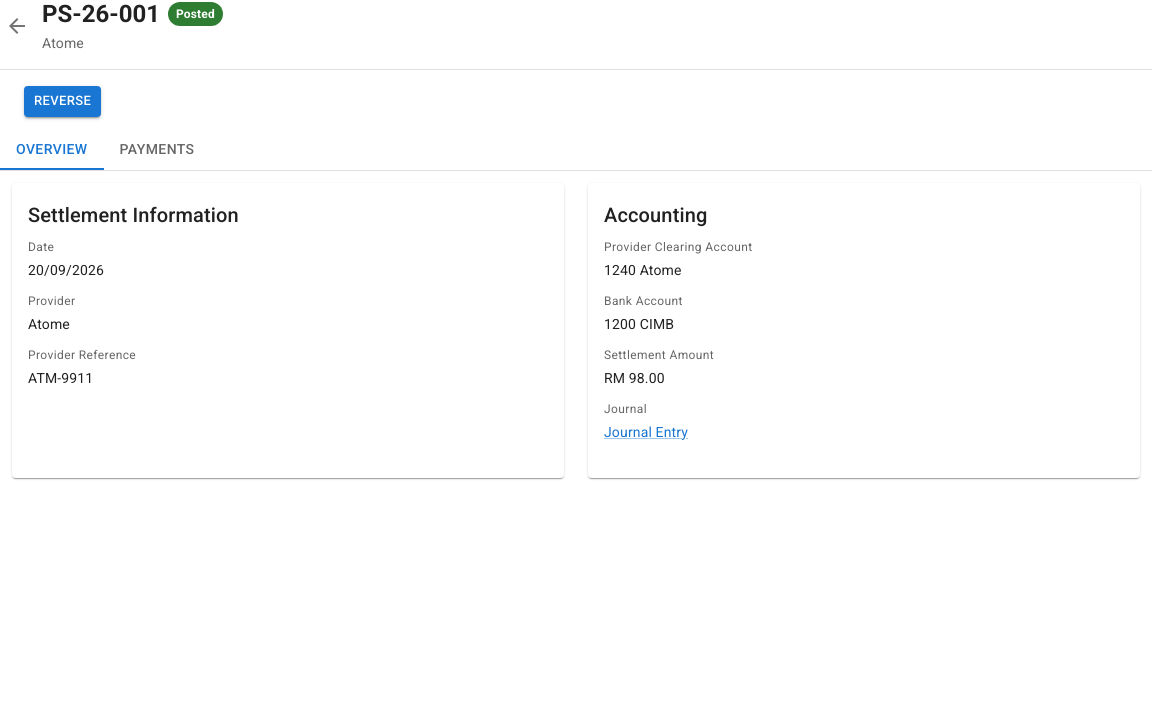
Test: ProviderSettlementDetailView › document actions › Reverse › does nothing when cancelled
Click the button "Reverse": (63,101) [24,86,101,117]
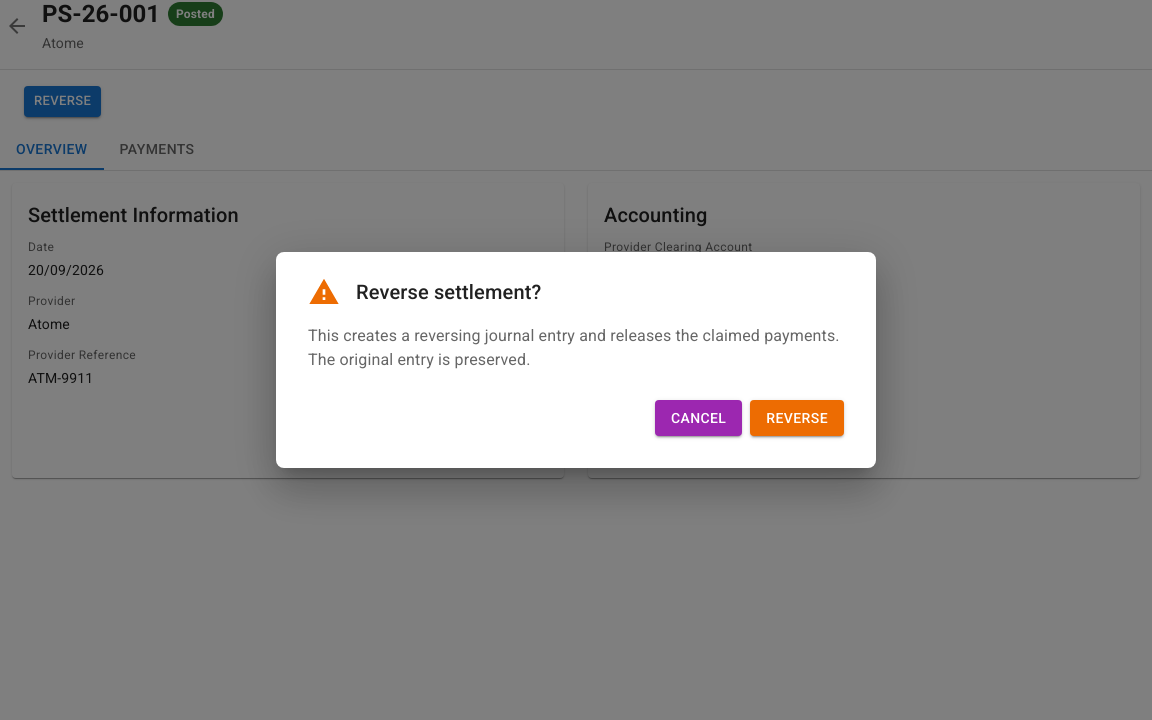
Click the button "Cancel": (699,418) [655,400,742,436]
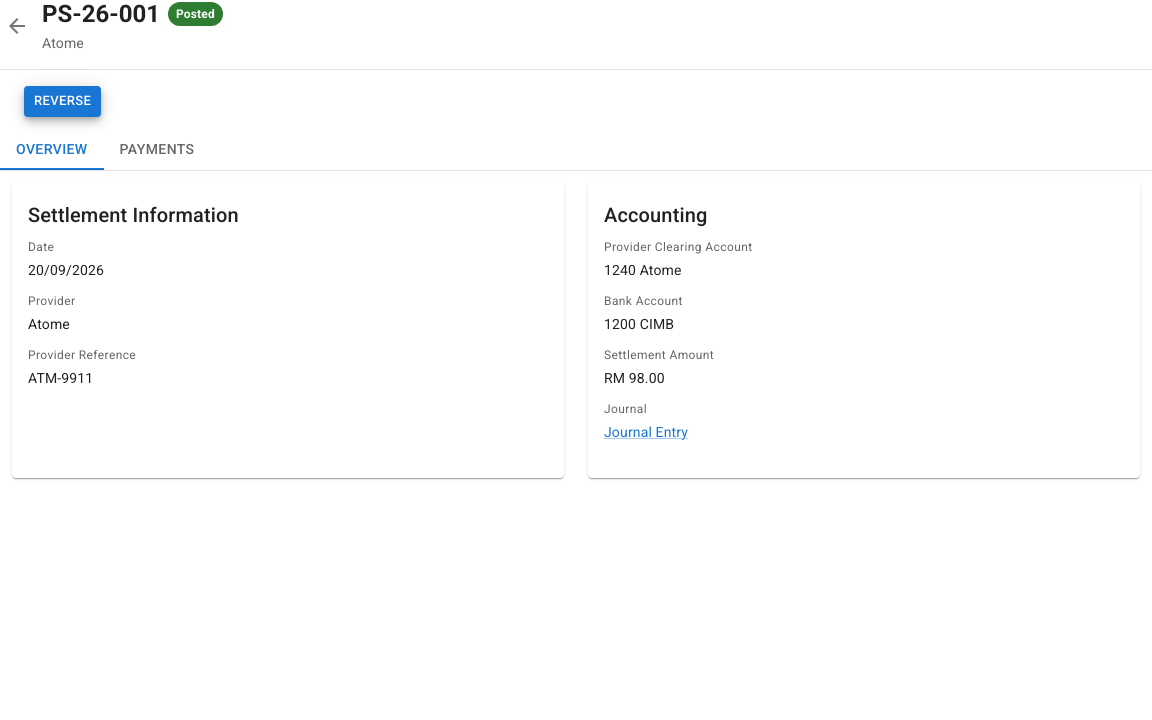
expect the dialog is gone: met
